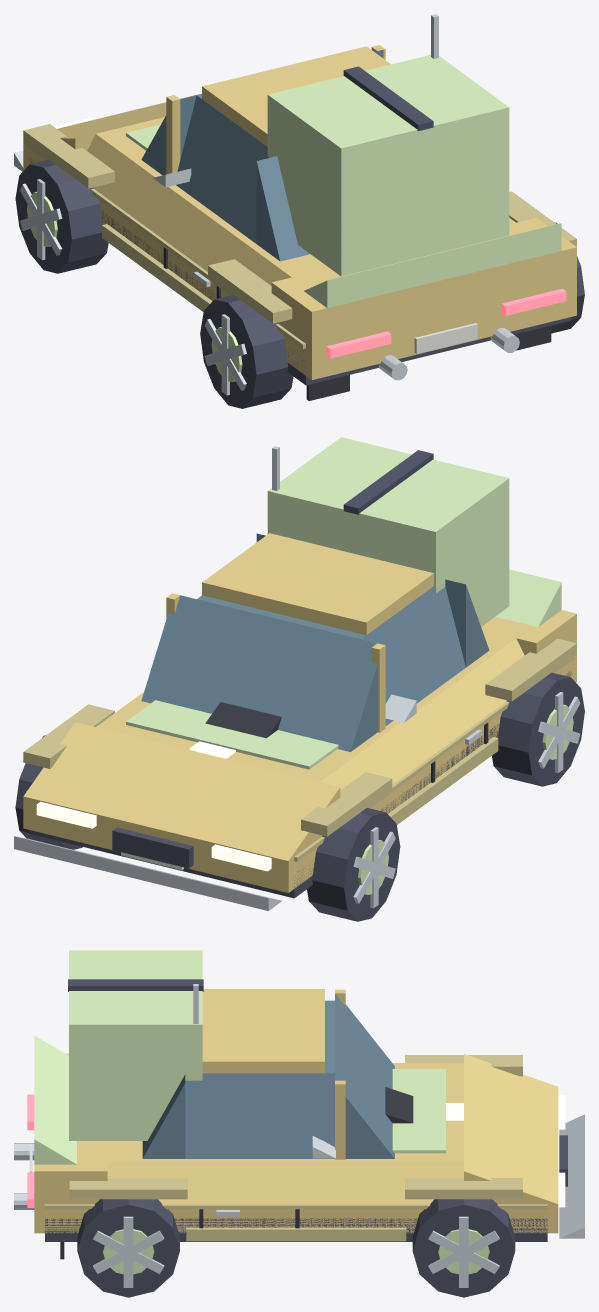
File: parcel_pod.glb
The picture shows the model from 3 angles, top to bottom: view 1: azimuth 30°, elevation 25°; view 2: azimuth 150°, elevation 25°; view 3: azimuth 270°, elevation 25°; orthographic projection. The views are drawn at different scales.
Visible parts, largest first — view 1: CourierBox.013, Tail.043, Body.243, ShoulderL.040, CabinSideL.040, Ducktail.030, Wheel_RL.203, Wheel_FL.203, Roof.243, RearWindow.143, BodyUpper.040, Arch-1False.119 (+21 smaller); view 2: CourierBox.013, Windshield.143, Nose.040, Roof.243, ShoulderL.040, Body.243, CabinSideL.040, Wheel_FL.203, Wheel_RL.203, Hood.239, BodyUpper.040, Bumper.239 (+18 smaller); view 3: CourierBox.013, CabinSideR.040, ShoulderR.040, Nose.040, Roof.243, Body.243, Windshield.143, Wheel_FR.203, Wheel_RR.203, Ducktail.030, BodyUpper.040, Hood.239 (+21 smaller).
Part boxes in pixels (x1=…): CourierBox.013: x1=267, y1=55, x2=509, y2=276; Tail.043: x1=271, y1=217, x2=576, y2=347; Body.243: x1=23, y1=141, x2=576, y2=379; ShoulderL.040: x1=87, y1=134, x2=291, y2=285; CabinSideL.040: x1=176, y1=95, x2=269, y2=243; Ducktail.030: x1=304, y1=223, x2=561, y2=307; Wheel_RL.203: x1=200, y1=295, x2=293, y2=408; Wheel_FL.203: x1=15, y1=159, x2=108, y2=273; Roof.243: x1=202, y1=46, x2=390, y2=146; RearWindow.143: x1=256, y1=156, x2=309, y2=261; BodyUpper.040: x1=96, y1=117, x2=515, y2=277; Arch-1False.119: x1=23, y1=124, x2=114, y2=188; CourierBox.013: x1=267, y1=437, x2=509, y2=626; Windshield.143: x1=141, y1=595, x2=377, y2=751; Nose.040: x1=23, y1=722, x2=340, y2=860; Roof.243: x1=202, y1=533, x2=433, y2=635; ShoulderL.040: x1=320, y1=638, x2=524, y2=790; Body.243: x1=23, y1=654, x2=576, y2=892; CabinSideL.040: x1=361, y1=586, x2=465, y2=725; Wheel_FL.203: x1=307, y1=808, x2=400, y2=921; Wheel_RL.203: x1=492, y1=672, x2=584, y2=786; Hood.239: x1=126, y1=700, x2=338, y2=769; BodyUpper.040: x1=96, y1=630, x2=515, y2=781; Bumper.239: x1=14, y1=836, x2=282, y2=910; CourierBox.013: x1=69, y1=950, x2=202, y2=1140; CabinSideR.040: x1=185, y1=1073, x2=334, y2=1158; ShoulderR.040: x1=107, y1=1162, x2=463, y2=1204; Nose.040: x1=464, y1=1054, x2=558, y2=1204; Roof.243: x1=202, y1=989, x2=324, y2=1073; Body.243: x1=34, y1=1204, x2=558, y2=1233; Windshield.143: x1=335, y1=994, x2=394, y2=1158; Wheel_FR.203: x1=412, y1=1199, x2=515, y2=1297; Wheel_RR.203: x1=77, y1=1199, x2=179, y2=1297; Ducktail.030: x1=34, y1=1035, x2=76, y2=1164; BodyUpper.040: x1=107, y1=1063, x2=463, y2=1162; Hood.239: x1=392, y1=1069, x2=445, y2=1153.
Bounding box in the file's own units: 3.3 × 2.84 × 5.34.
